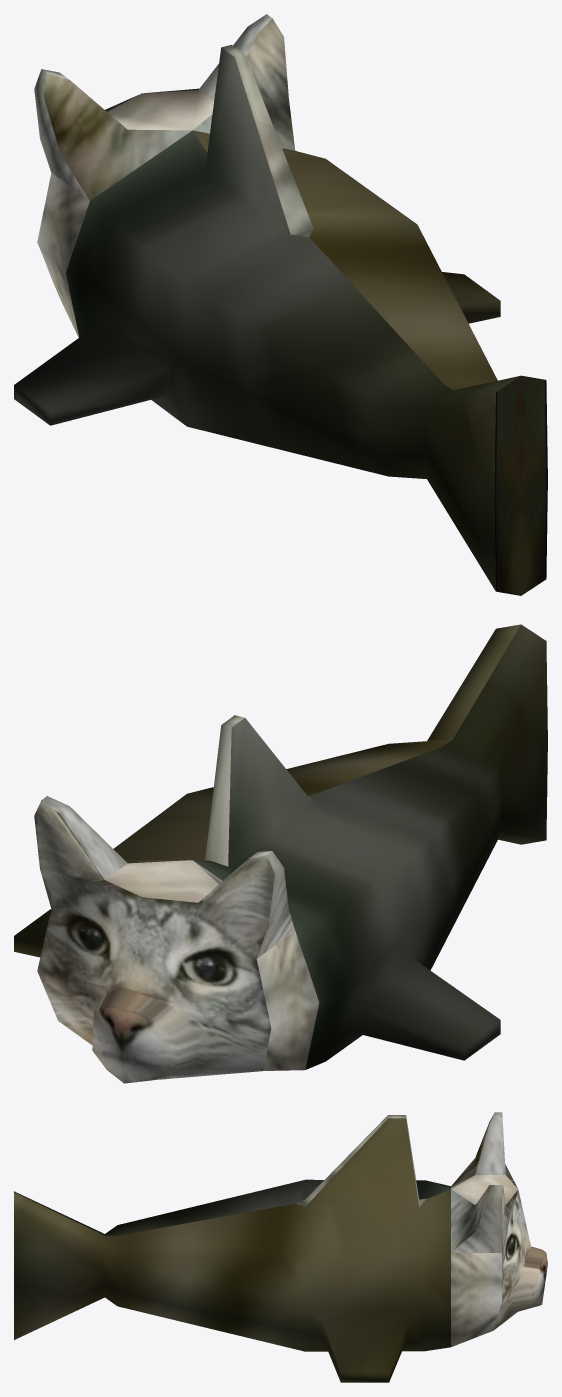
Rendered from Catfih.fbx.
3 views of the same model, one above another, from view 1: azimuth 30°, elevation 25°; view 2: azimuth 150°, elevation 25°; view 3: azimuth 270°, elevation 25° (orthographic). The views are drawn at different scales.
Visible parts, largest first — view 1: Cube; view 2: Cube; view 3: Cube.
Boxes of the visible parts, bbox=[...] form: Cube: bbox=[14, 14, 547, 595]; Cube: bbox=[14, 624, 547, 1083]; Cube: bbox=[14, 1112, 547, 1382].
Size of the model in its own units: 128 by 90.47 by 197.
